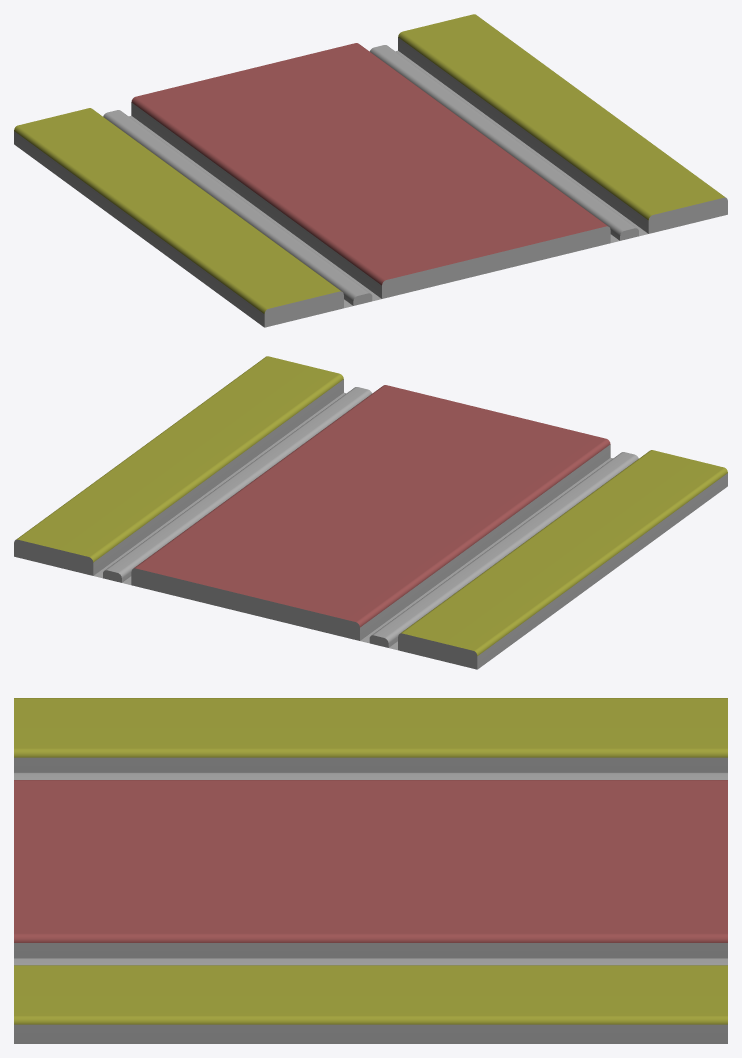
The model's file is straight4.fbx.
3 views of the same model, one above another, from view 1: azimuth 30°, elevation 25°; view 2: azimuth 150°, elevation 25°; view 3: azimuth 270°, elevation 25° (orthographic). The views are drawn at different scales.
Parts seen in each view (by area): view 1: Straight1; view 2: Straight1; view 3: Straight1.
Boxes of the visible parts, box(x1,y1,x2,y2) form: Straight1: box(14, 14, 727, 327); Straight1: box(14, 356, 727, 669); Straight1: box(14, 698, 727, 1043).
Bounding box in the file's own units: 243 × 9 × 228.
